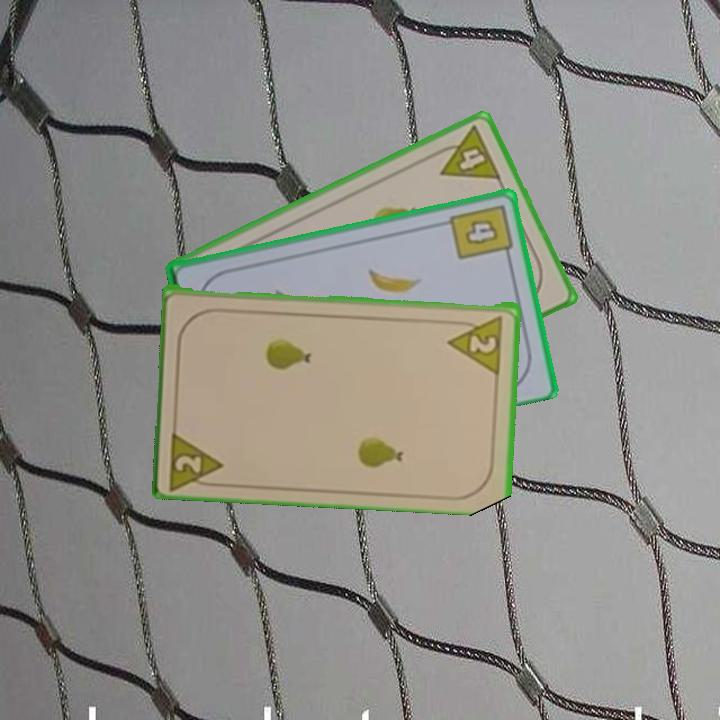2p: (166, 424, 228, 490), (445, 311, 506, 375)
4b: (446, 200, 515, 263)
4p: (428, 122, 504, 183)
